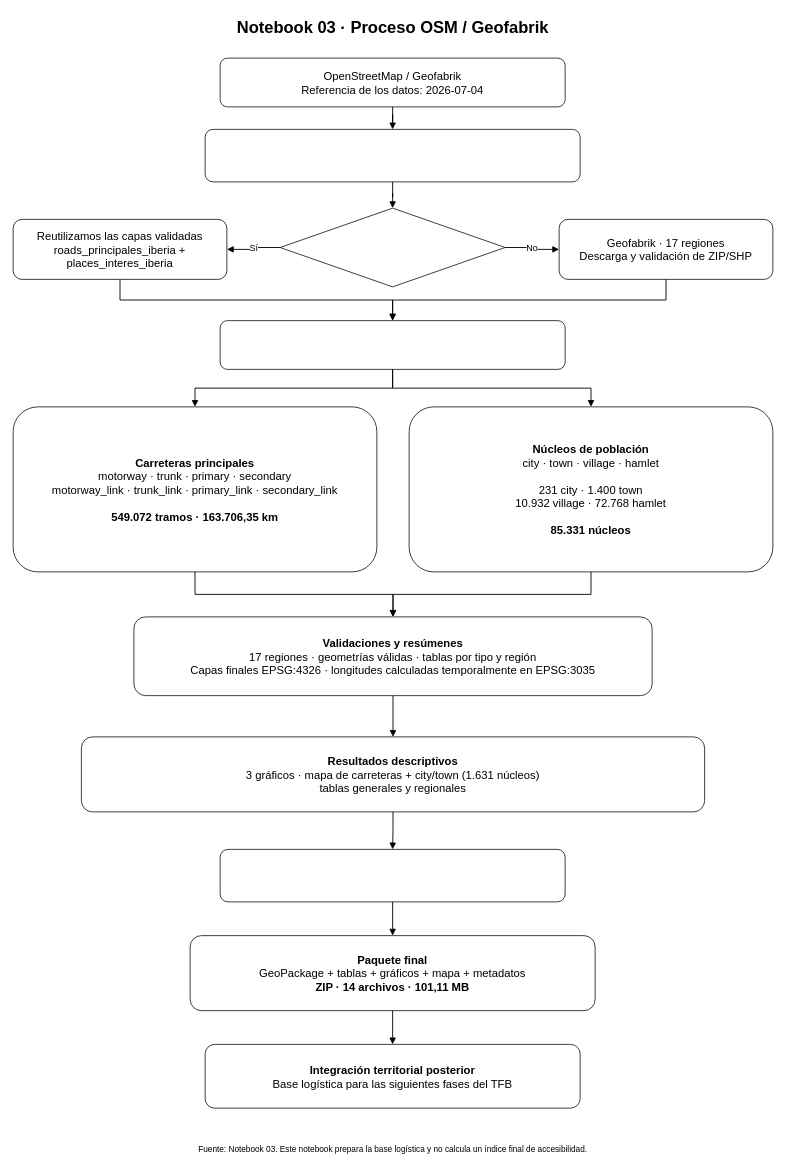
The diagram is 786 pixels wide and 1173 high, and some of its shapes have lost their labels. Each missing label, with the centre of its shape:
"Capas OSM validadas" goes at [392,344].
"Comprobamos si el GeoPackage procesado está disponible en Kaggle Input" goes at [392,155].
"Dashboard HTML" goes at [392,875].
"¿GeoPackage disponible y válido?" goes at [392,247].
